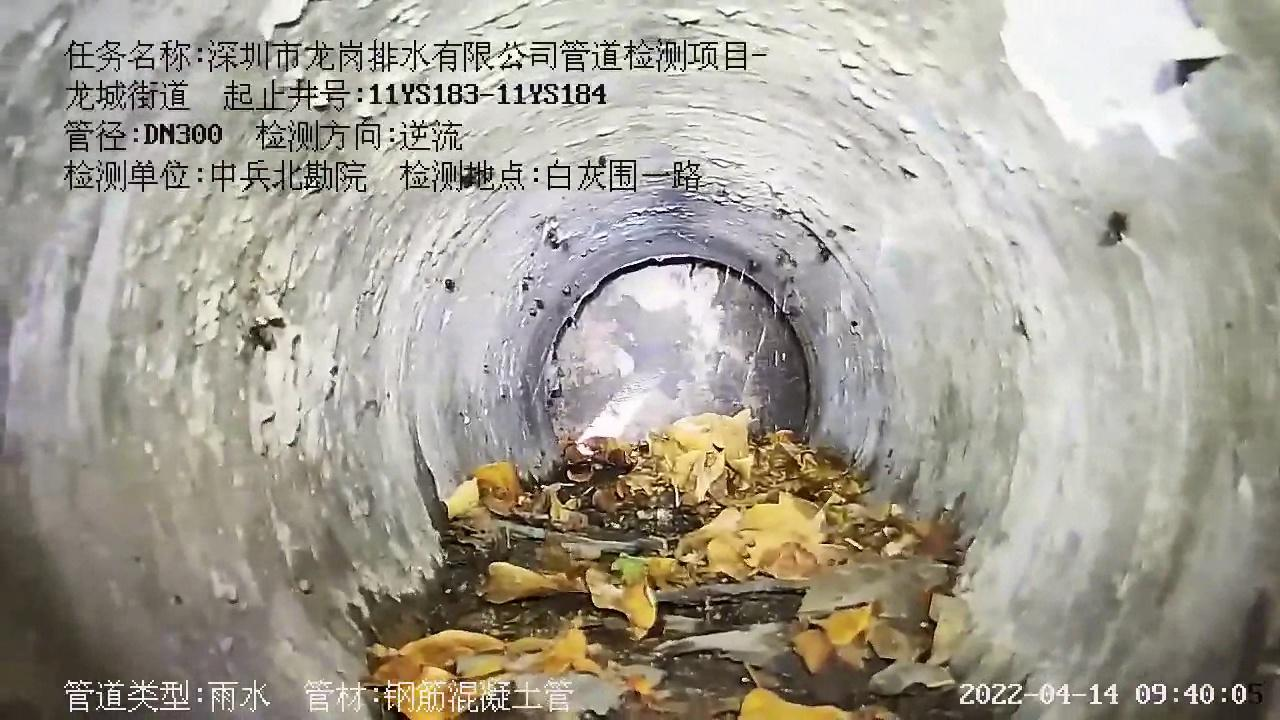CJ: (362, 409, 1020, 719)
JG: (0, 0, 1279, 719)
